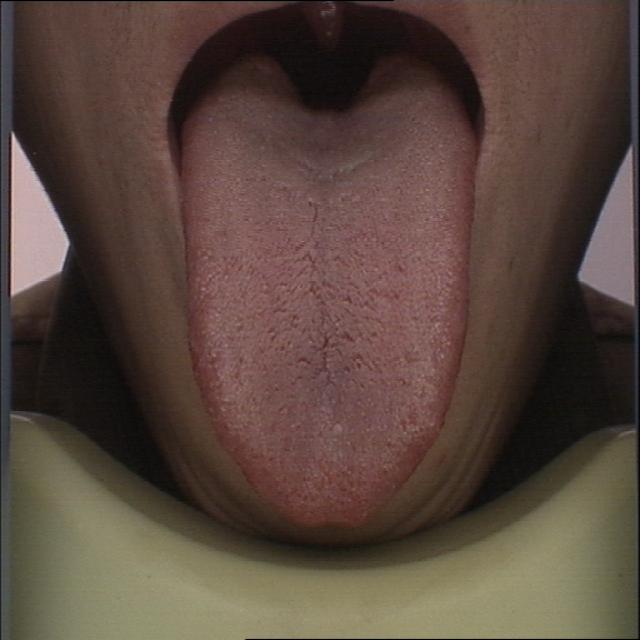tongue: (170, 59, 487, 540)
